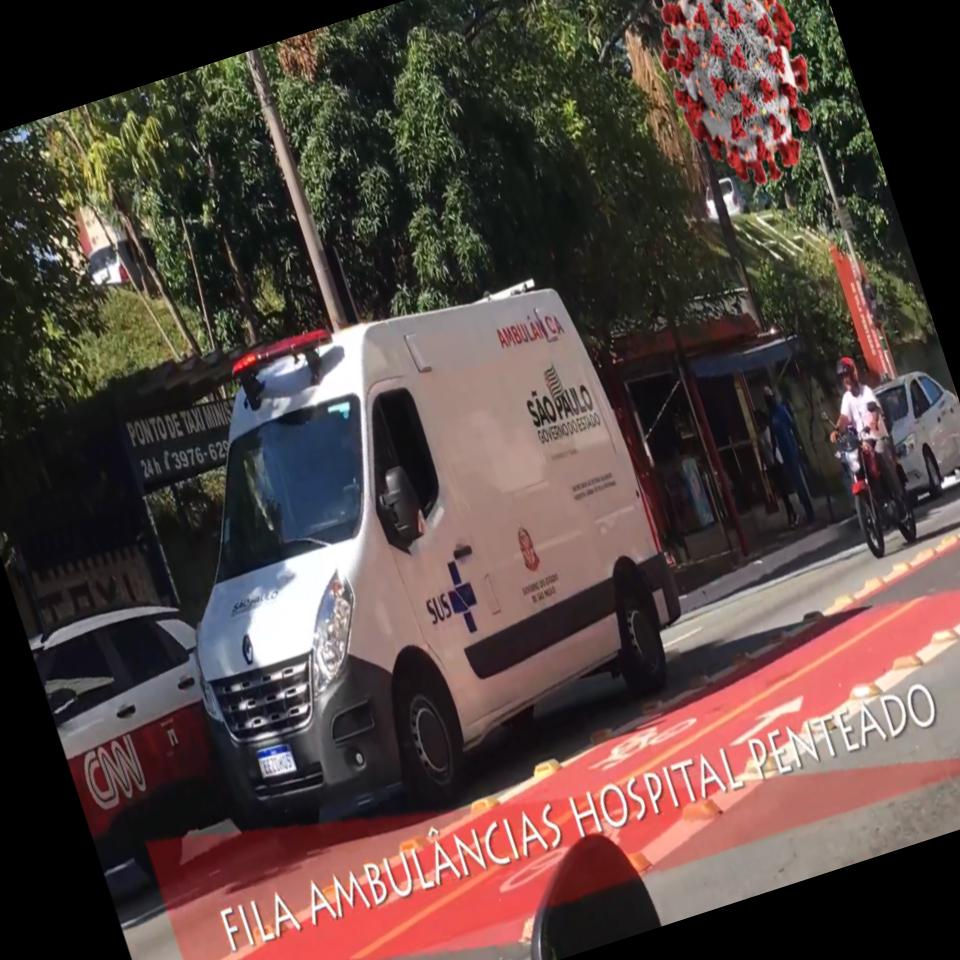bombeiro: (98, 237, 722, 865)
